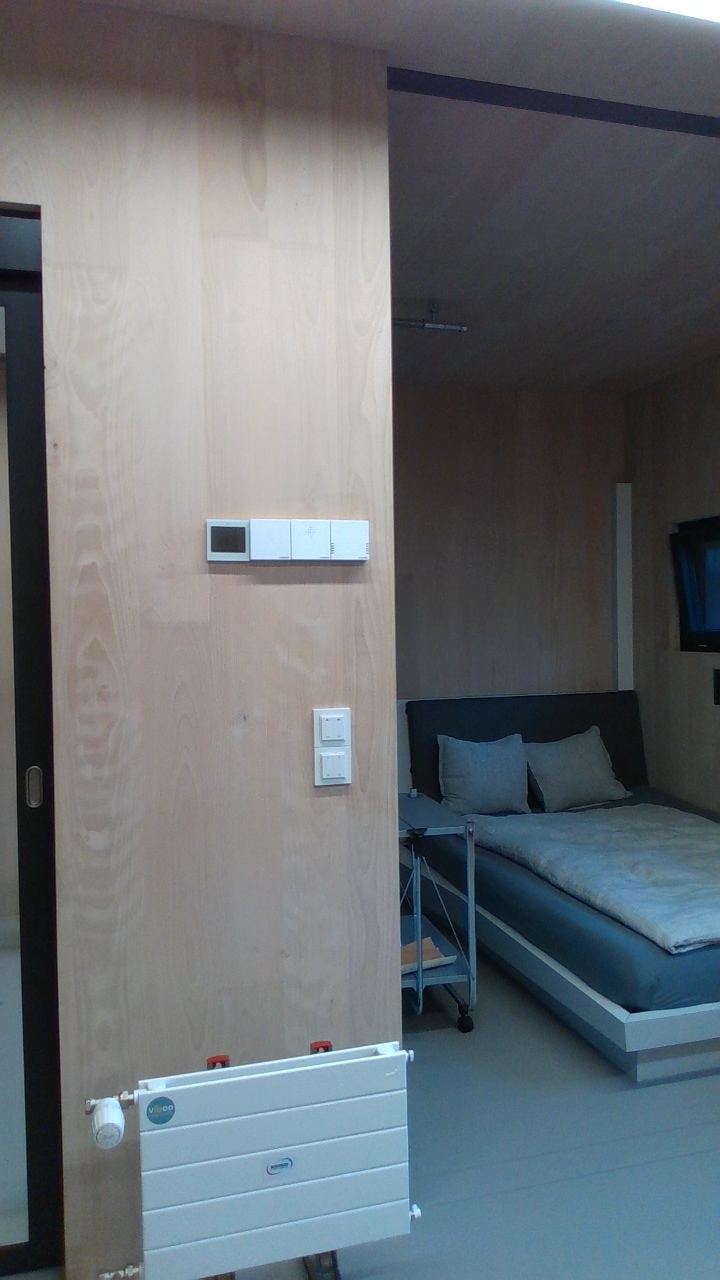Knob_Radiator: (81, 1089, 135, 1160)
Light_Switch: (315, 746, 353, 787), (315, 708, 351, 742)
Radiator: (126, 1030, 427, 1280)
